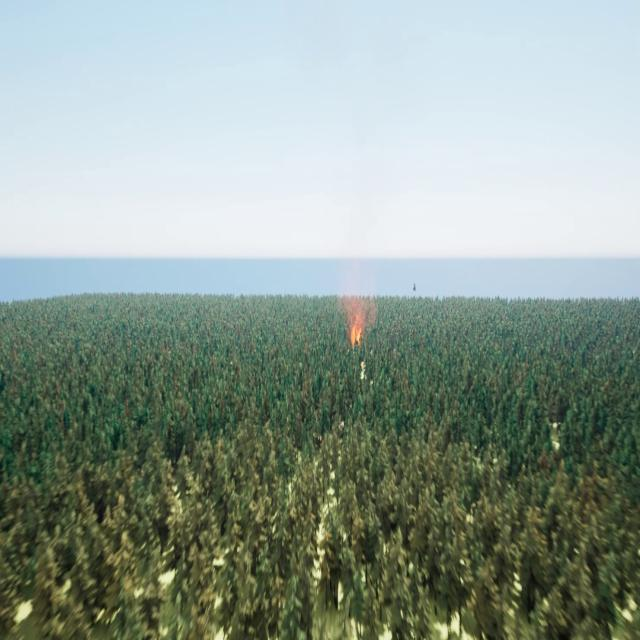fire: (349, 312, 364, 350)
smoke: (338, 278, 376, 326)
